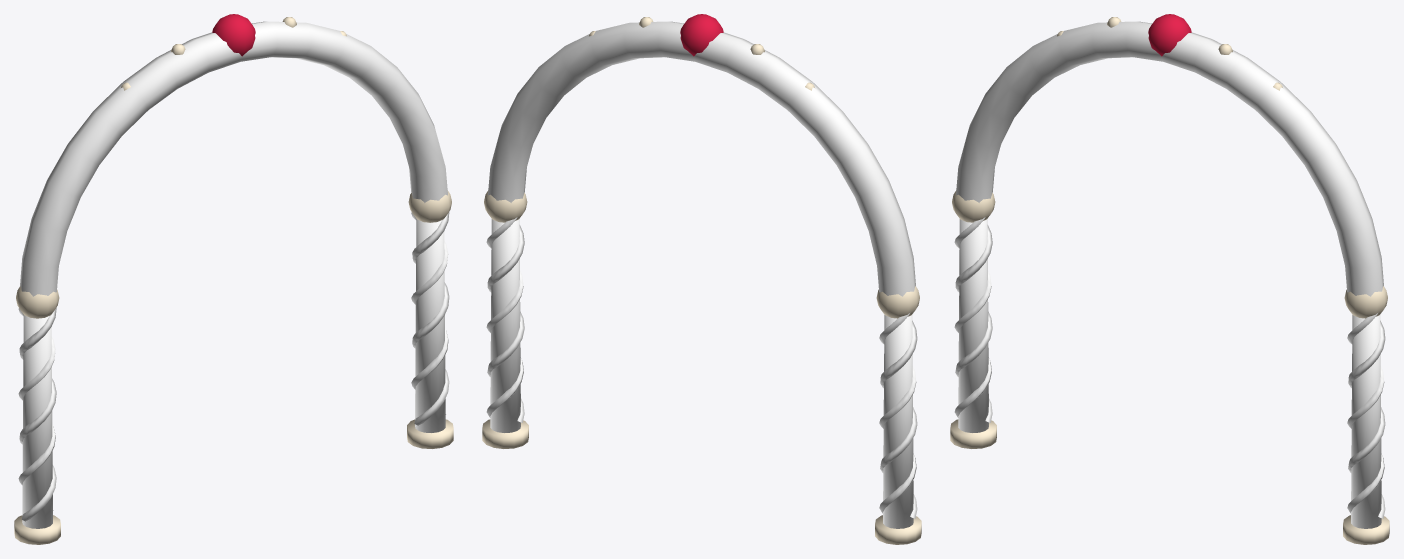
Rendered from region-arch.glb.
The picture shows the model from 3 angles, left to right: view 1: azimuth 30°, elevation 25°; view 2: azimuth 150°, elevation 25°; view 3: azimuth 330°, elevation 25°; orthographic projection.
Visible parts, largest first — view 1: region-arch; view 2: region-arch; view 3: region-arch.
Boxes of the visible parts, bbox=[...] form: region-arch: bbox=[14, 14, 453, 544]; region-arch: bbox=[482, 14, 921, 544]; region-arch: bbox=[950, 14, 1389, 544].
Size of the model in its own units: 5.73 by 5.96 by 0.54.
Materials: 3 (1 with a texture image).
